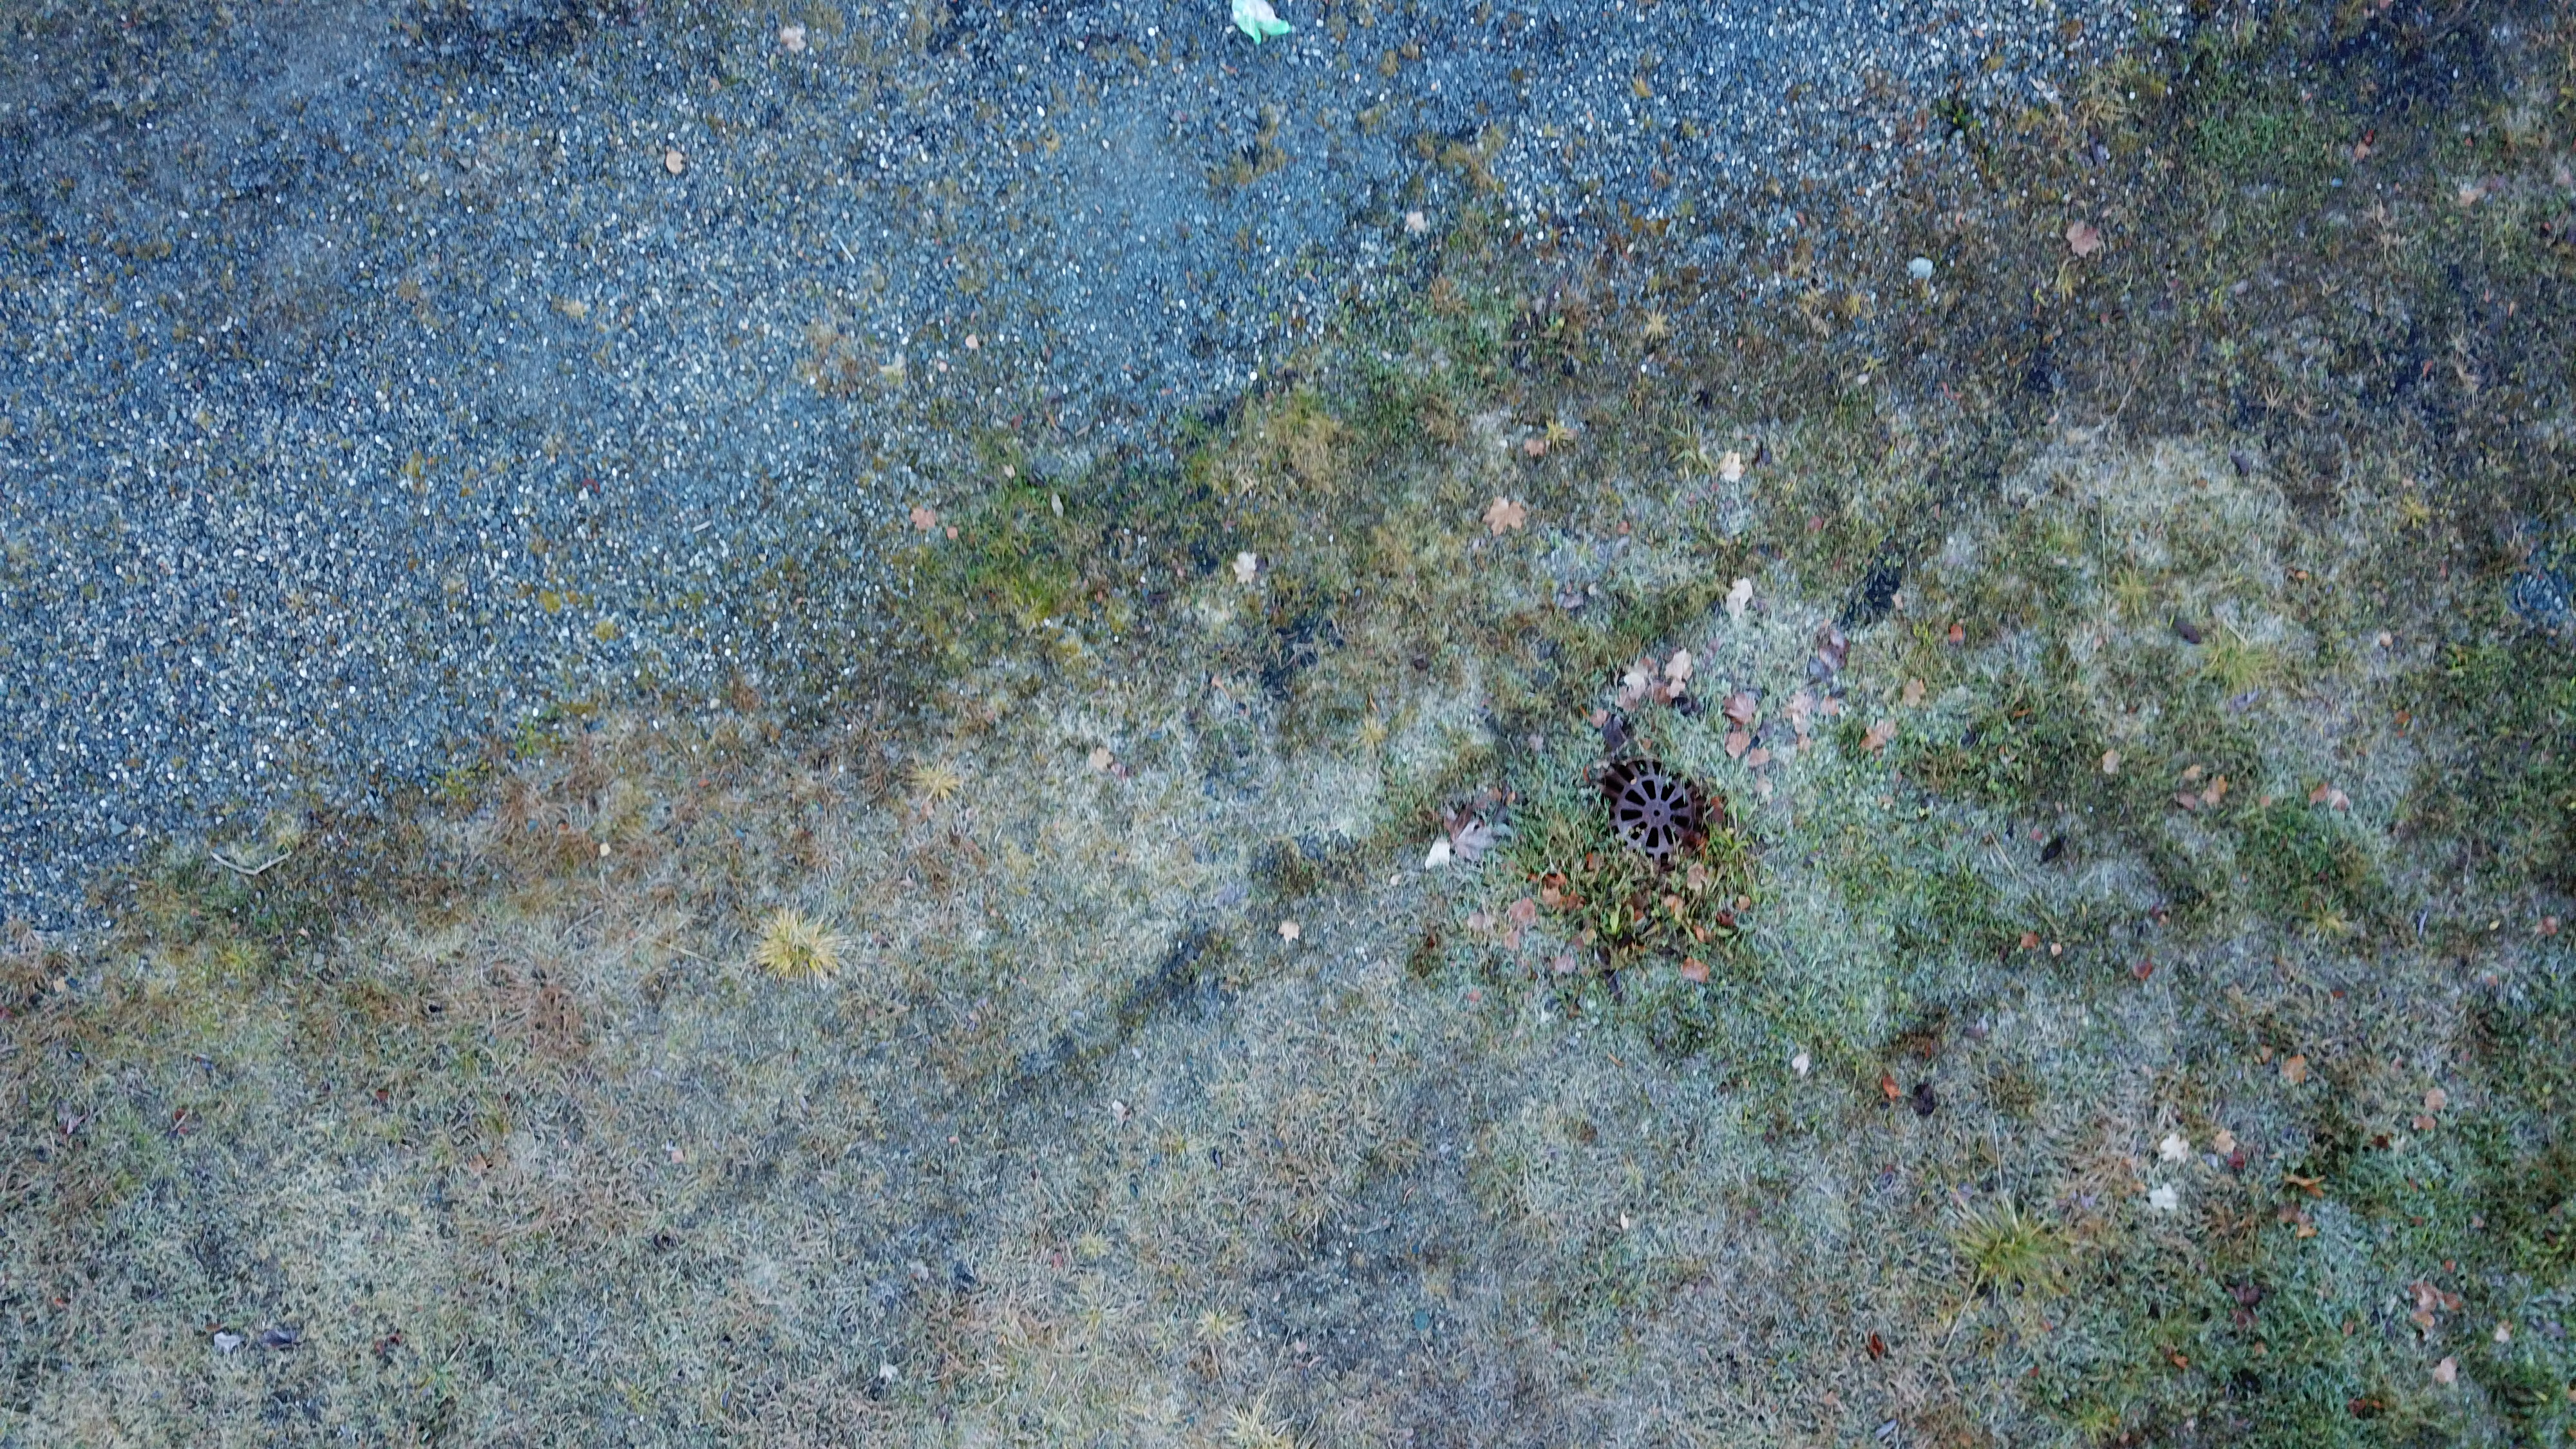Plastic: (1230, 0, 1292, 42), (1424, 839, 1453, 872)
